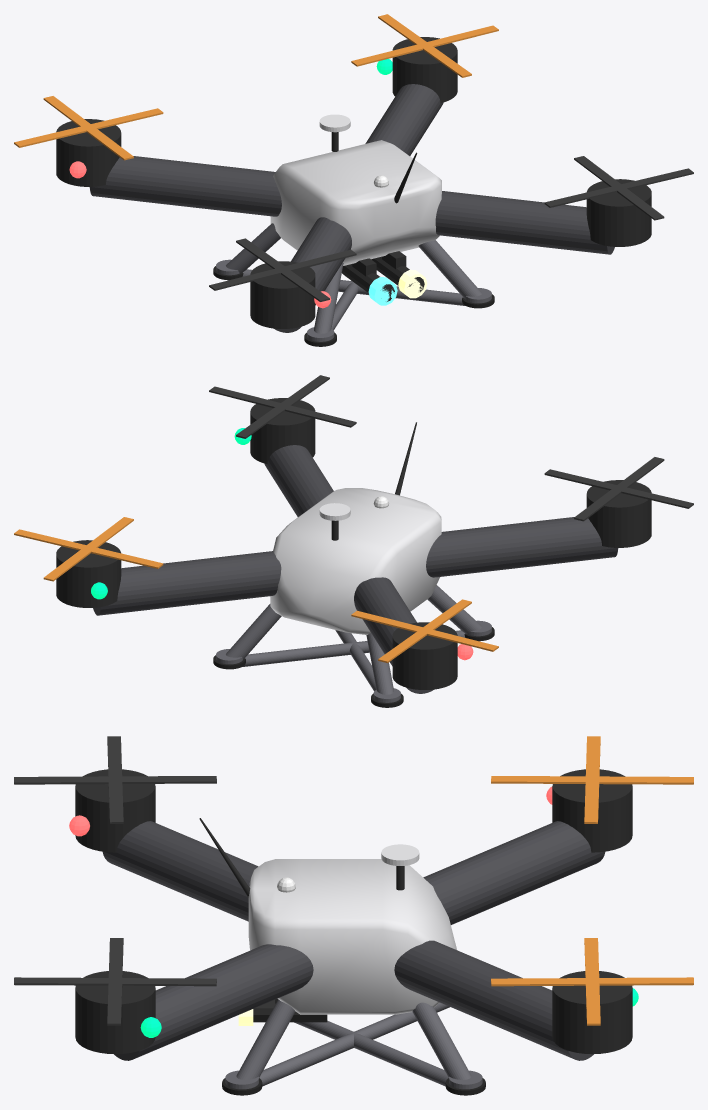
Rendered from Quadcopter_Drone.fbx.
The picture shows the model from 3 angles, top to bottom: view 1: azimuth 30°, elevation 25°; view 2: azimuth 150°, elevation 25°; view 3: azimuth 270°, elevation 25°; orthographic projection. The views are drawn at different scales.
Parts seen in each view (by area): view 1: Drone_Body, Arm_FL, Arm_BR, Motor_BL, Motor_BR, Arm_FR, Motor_FL, Motor_FR, Arm_BL, Prop_FR, Prop_FL, Prop_BL (+9 smaller); view 2: Drone_Body, Arm_BL, Arm_FR, Motor_FL, Motor_BL, Motor_FR, Arm_BR, Motor_BR, Arm_FL, Prop_BR, Prop_BL, Prop_FL (+7 smaller); view 3: Drone_Body, Arm_FR, Arm_FL, Arm_BR, Arm_BL, Motor_FR, Motor_BR, Motor_FL, Motor_BL, Prop_BR, Prop_FR, Prop_BL (+7 smaller).
Boxes of the visible parts, x1,y1,x2,y2 form: Drone_Body: [270, 140, 441, 265]; Arm_FL: [89, 156, 281, 216]; Arm_BR: [435, 191, 614, 254]; Motor_BL: [250, 261, 315, 328]; Motor_BR: [586, 179, 651, 246]; Arm_FR: [365, 84, 443, 155]; Motor_FL: [56, 119, 121, 186]; Motor_FR: [392, 37, 457, 103]; Arm_BL: [274, 217, 351, 332]; Prop_FR: [351, 14, 498, 77]; Prop_FL: [14, 96, 163, 160]; Prop_BL: [209, 238, 356, 301]; Drone_Body: [270, 488, 441, 634]; Arm_BL: [426, 517, 618, 577]; Arm_FR: [93, 551, 281, 615]; Motor_FL: [392, 622, 457, 689]; Motor_BL: [586, 480, 651, 547]; Motor_FR: [56, 540, 121, 607]; Arm_BR: [264, 445, 333, 516]; Motor_BR: [250, 398, 315, 464]; Arm_FL: [354, 577, 433, 693]; Prop_BR: [209, 375, 356, 438]; Prop_BL: [544, 457, 693, 521]; Prop_FL: [351, 599, 498, 662]; Drone_Body: [248, 859, 456, 1014]; Arm_FR: [394, 940, 593, 1060]; Arm_FL: [423, 821, 605, 924]; Arm_BR: [114, 944, 313, 1060]; Arm_BL: [102, 821, 258, 921]; Motor_FR: [552, 971, 632, 1054]; Motor_BR: [75, 971, 155, 1054]; Motor_FL: [552, 769, 632, 852]; Motor_BL: [75, 769, 155, 852]; Prop_BR: [14, 938, 216, 1025]; Prop_FR: [491, 938, 693, 1025]; Prop_BL: [14, 736, 216, 823].
Size of the model in its own units: 323 by 120 by 323.
